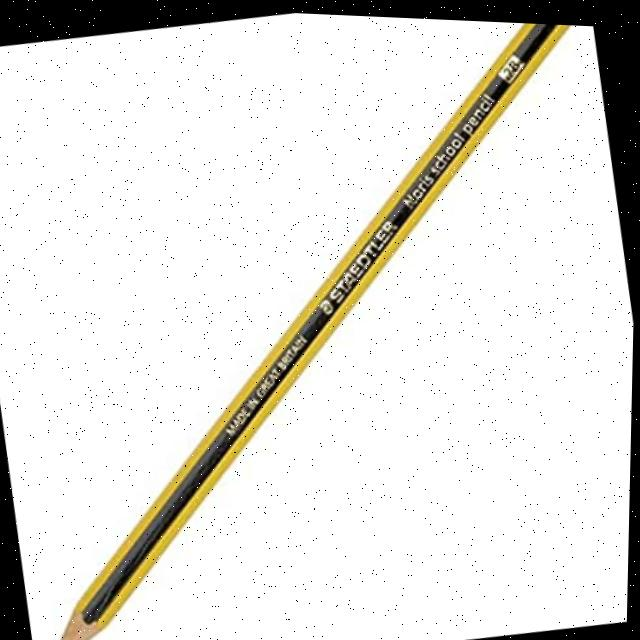pencil: (50, 18, 582, 640)
